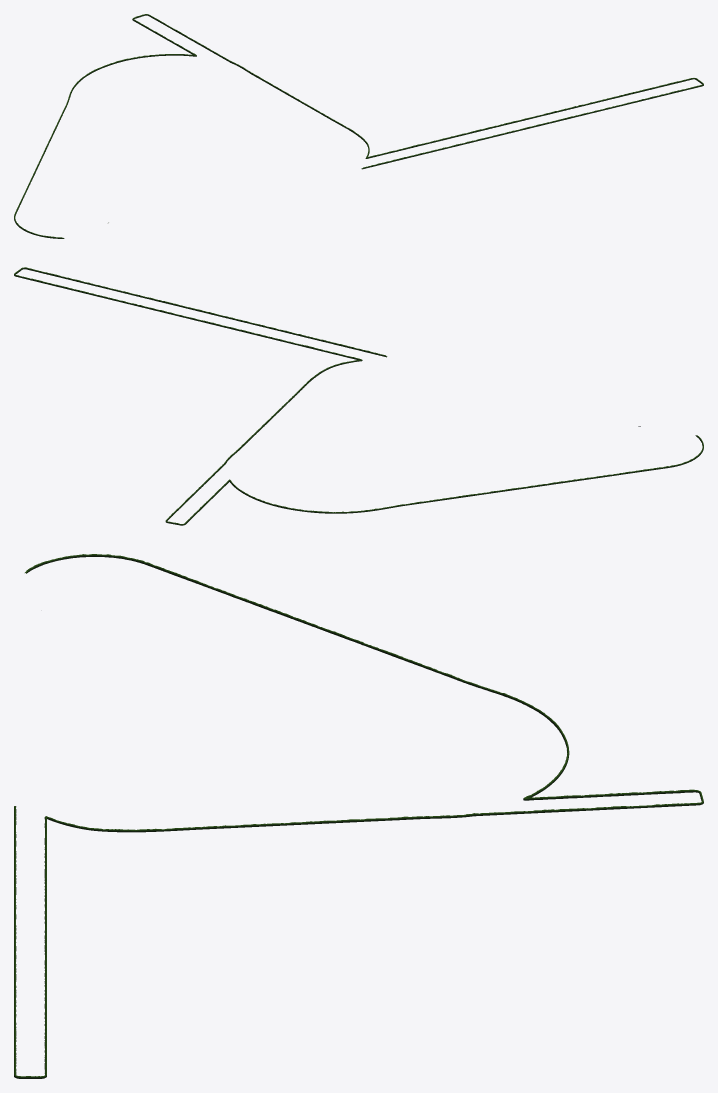
The model's file is planting_belts.glb.
3 views of the same model, one above another, from view 1: azimuth 30°, elevation 25°; view 2: azimuth 150°, elevation 25°; view 3: azimuth 270°, elevation 25° (orthographic). The views are drawn at different scales.
Parts seen in each view (by area): view 1: planting_hedge; view 2: planting_hedge; view 3: planting_hedge.
Boxes of the visible parts, x1,y1,x2,y2 form: planting_hedge: (14, 14, 703, 238); planting_hedge: (14, 267, 703, 525); planting_hedge: (14, 554, 703, 1078).
Bounding box in the file's own units: 1827 × 4.31 × 1019.
Materials: 3 (1 with a texture image).
